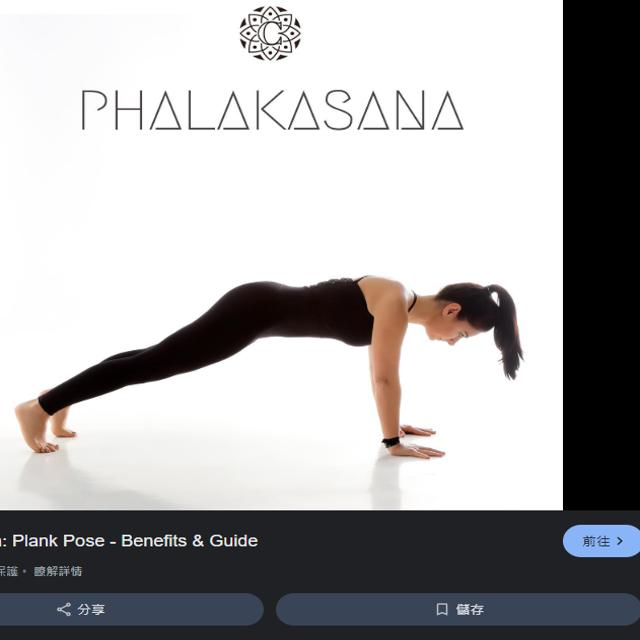Plank_Pose: (9, 269, 529, 461)
